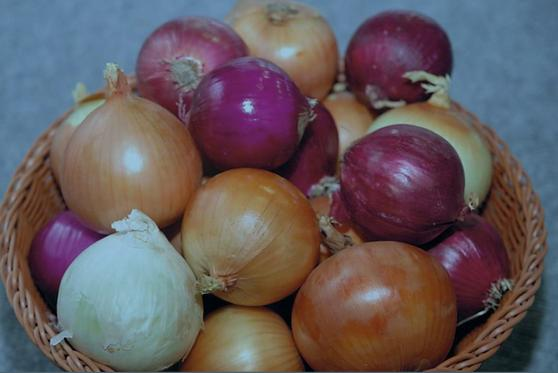onion: (293, 241, 458, 373), (186, 164, 320, 307), (57, 98, 203, 227)
